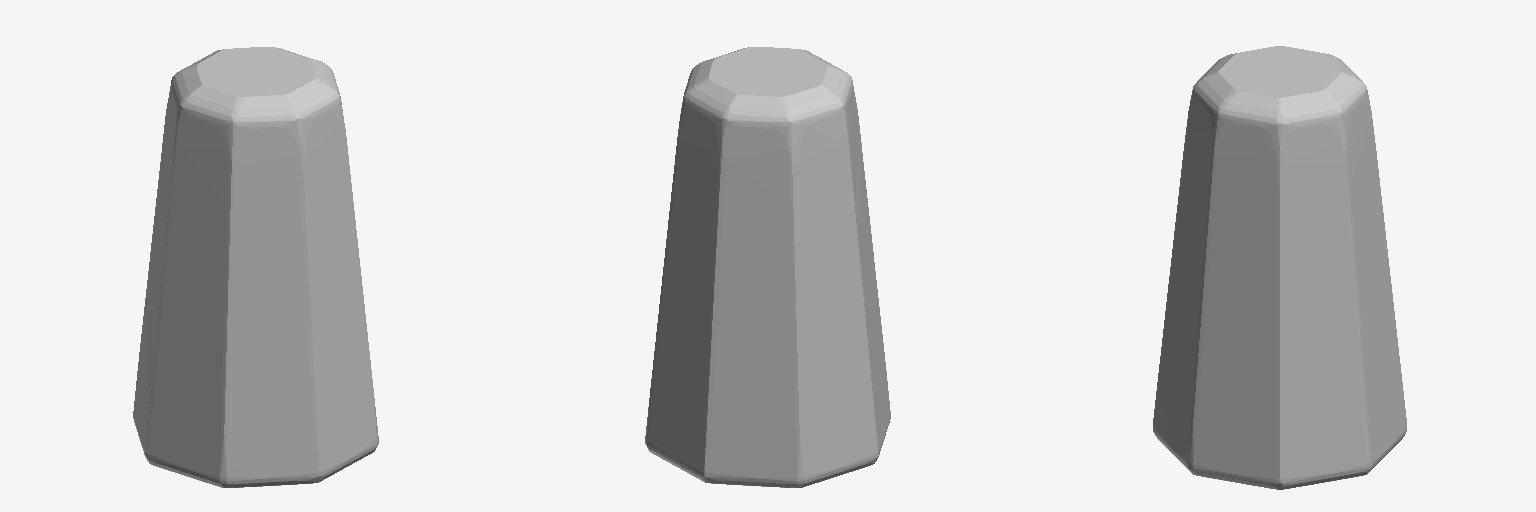
Rendered from Salt_Shaker_1_collision_1.obj.
The picture shows the model from 3 angles: view 1: azimuth 30°, elevation 25°; view 2: azimuth 150°, elevation 25°; view 3: azimuth 270°, elevation 25°; orthographic projection.
Size of the model in its own units: 0.0552 by 0.0881 by 0.0552.